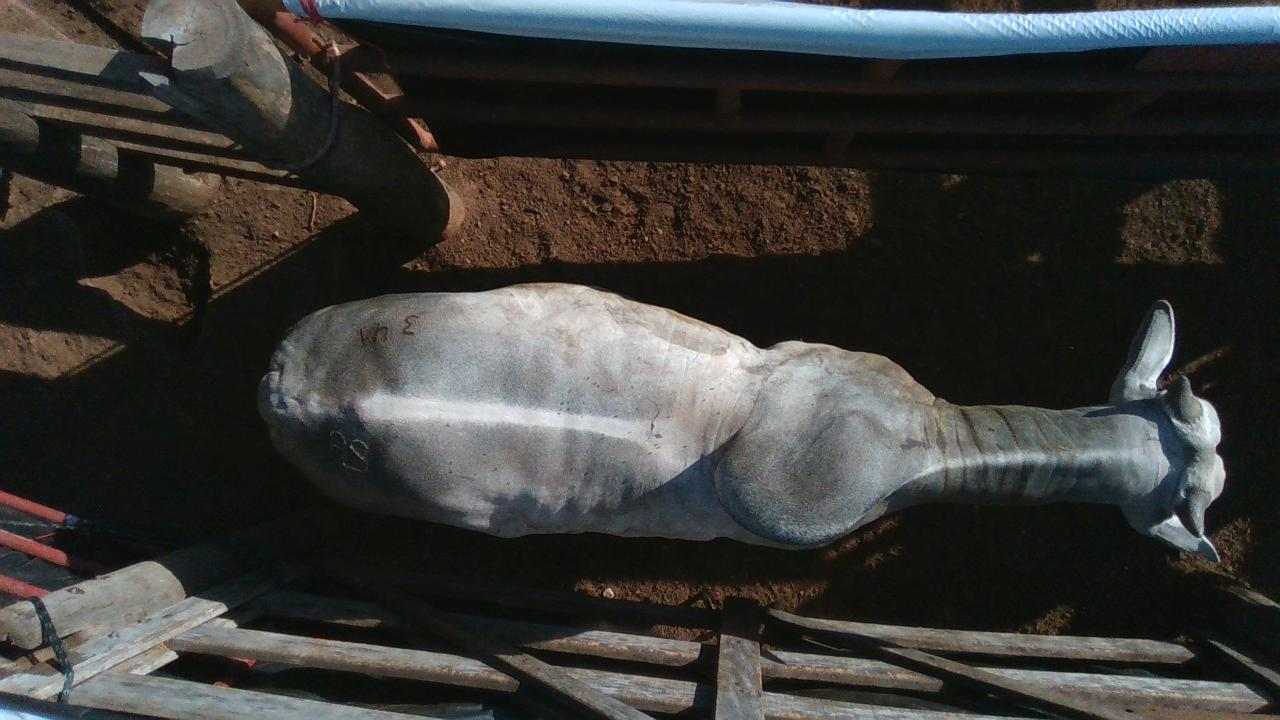cattle: (256, 279, 1228, 563)
